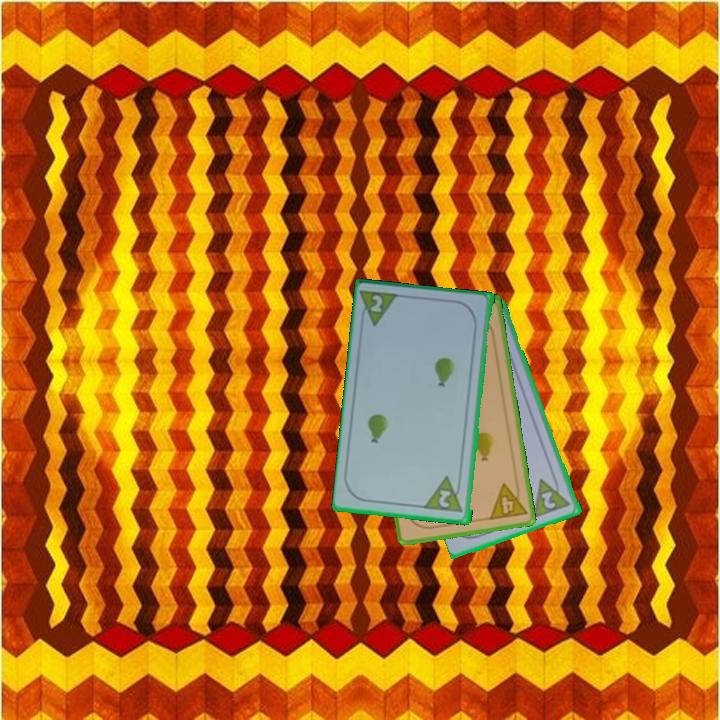2p: (423, 473, 466, 516), (538, 488, 559, 512), (367, 291, 386, 316)
4p: (486, 478, 530, 523)
